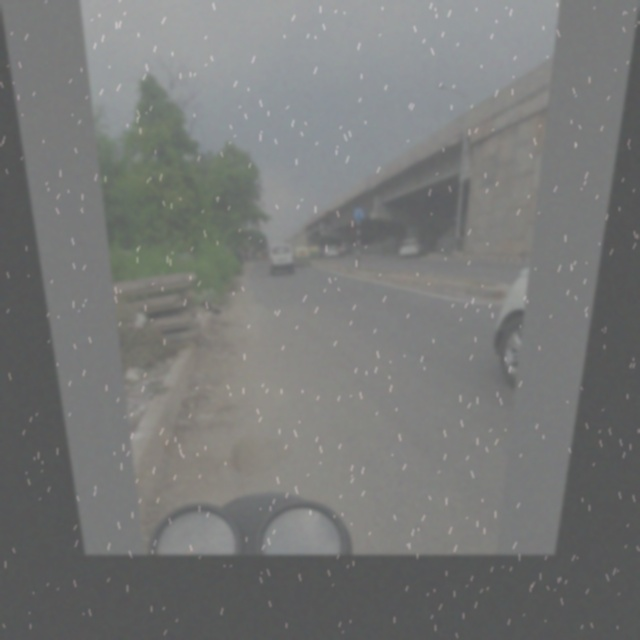Pass_Either_Side: (350, 206, 366, 223)
